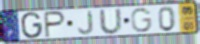0: (156, 5, 177, 33)
G: (20, 11, 44, 40), (130, 7, 154, 33)
J: (77, 10, 95, 36)
P: (43, 10, 67, 39)
U: (98, 8, 124, 36)
